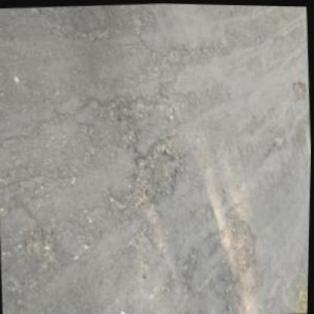Hueco: (129, 140, 186, 212), (230, 218, 259, 273), (289, 78, 308, 103)
